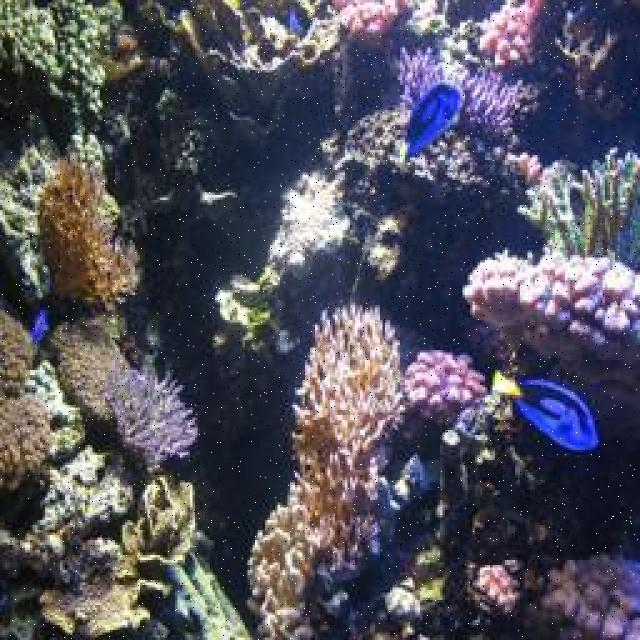fish: (493, 365, 602, 454), (398, 82, 464, 164)
reefs: (247, 297, 409, 638), (461, 247, 638, 392), (35, 154, 146, 311), (329, 0, 558, 70), (388, 45, 539, 150), (473, 553, 638, 638), (101, 351, 202, 463), (0, 303, 50, 491), (52, 317, 126, 423), (404, 349, 486, 427)
